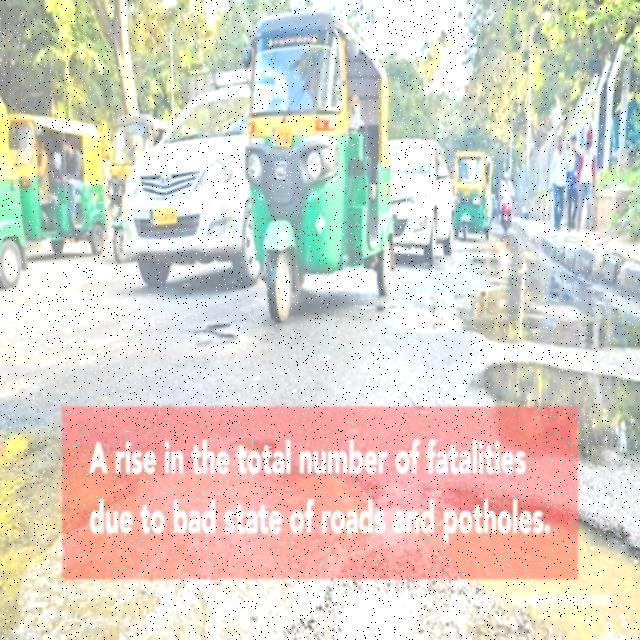pothole: (429, 498, 640, 640), (488, 366, 640, 466), (191, 326, 239, 351)
